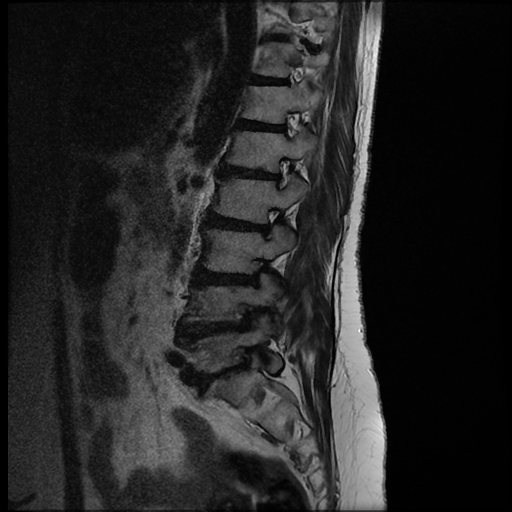LFS0: (259, 148, 306, 199)
LFS2: (254, 201, 293, 249)
